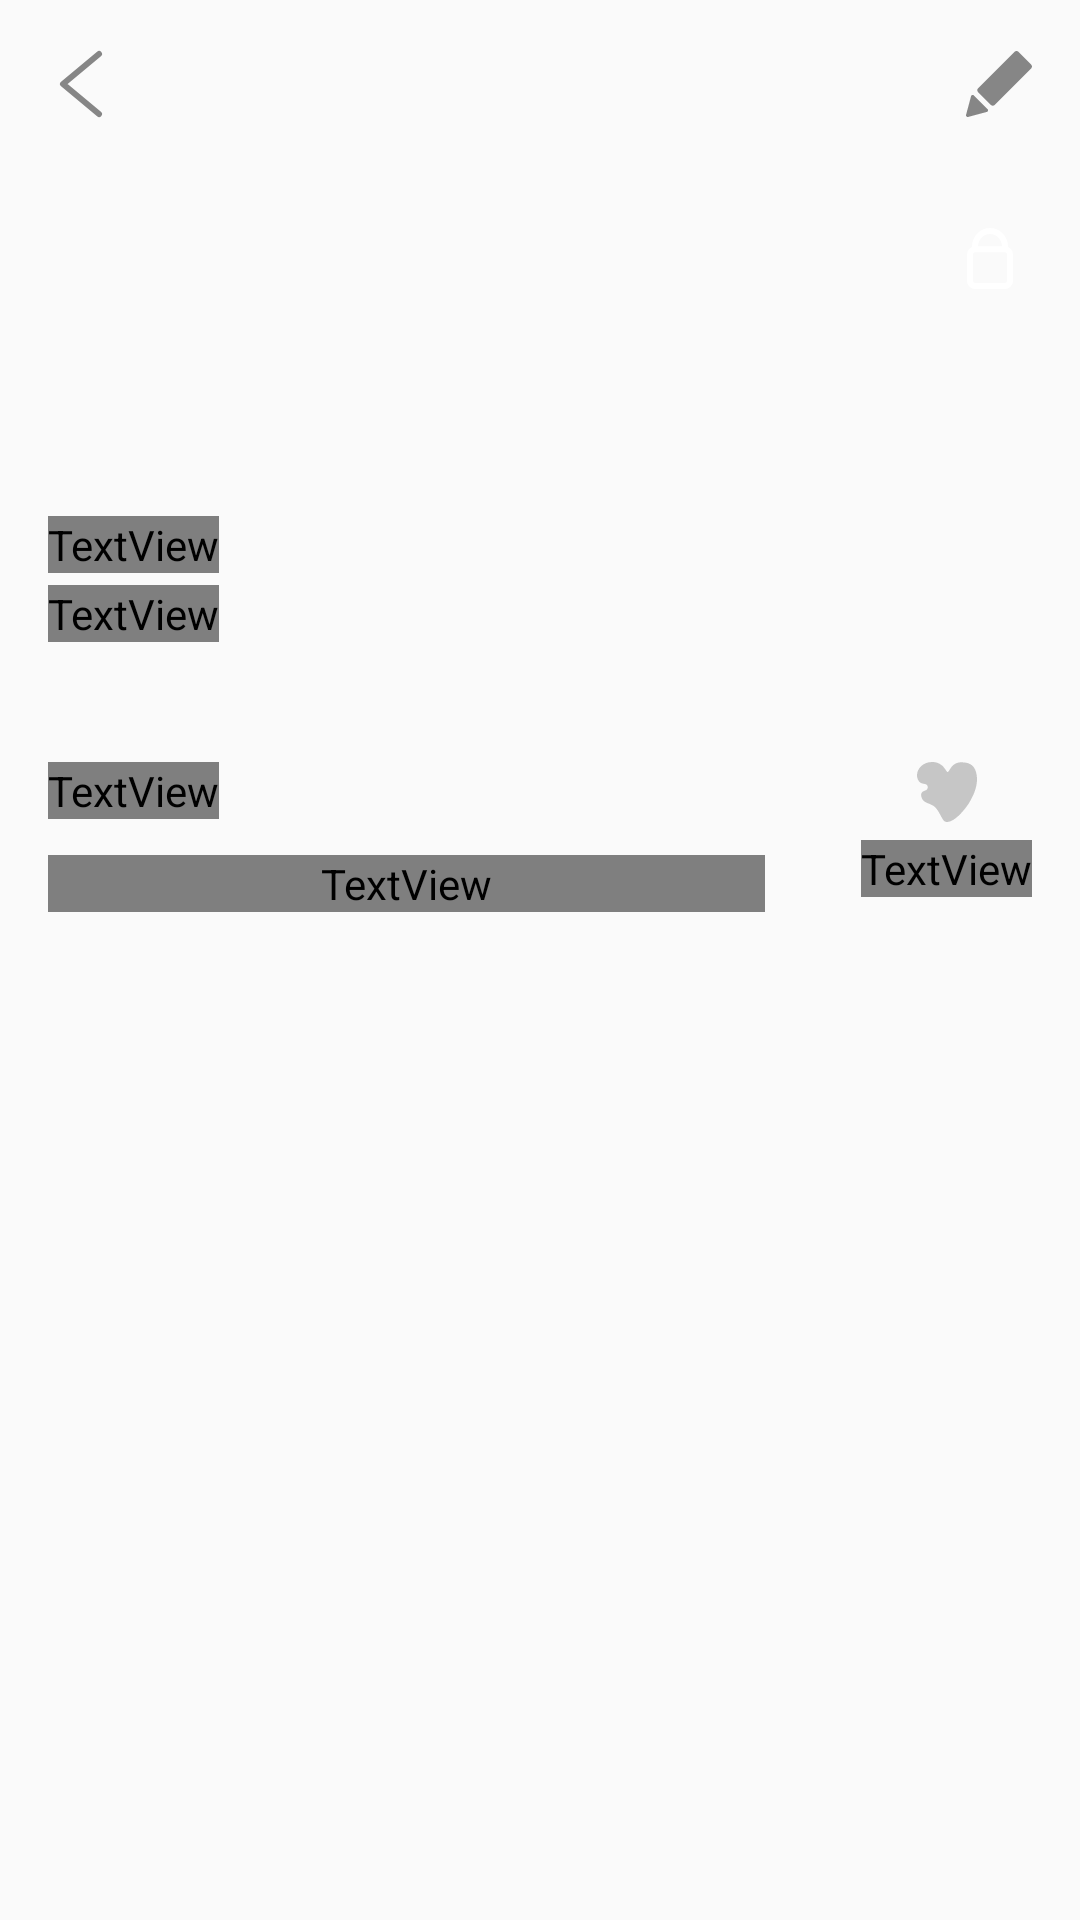

Named icons in this screenshot (1080x1920) and their centers, (x,y):
arrow back: (81,84)
edit: (999,84)
